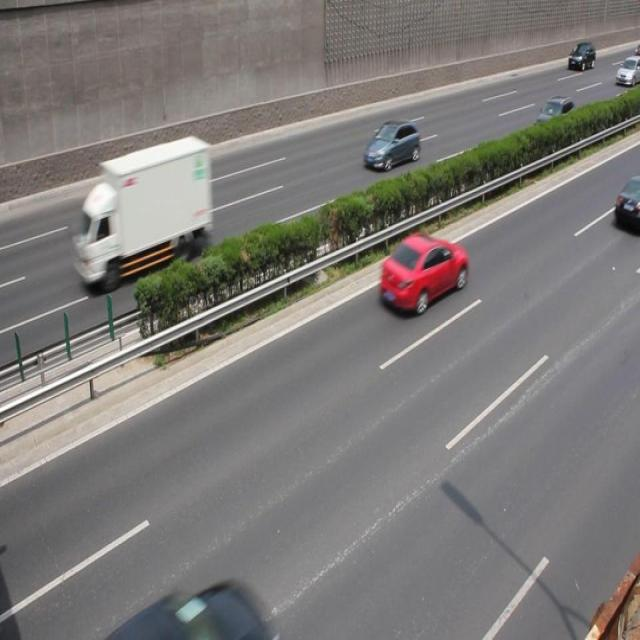bus: (72, 136, 214, 292)
car: (126, 576, 262, 634), (379, 231, 467, 314), (362, 119, 418, 173), (104, 203, 164, 249), (531, 95, 575, 141), (566, 41, 593, 72)
